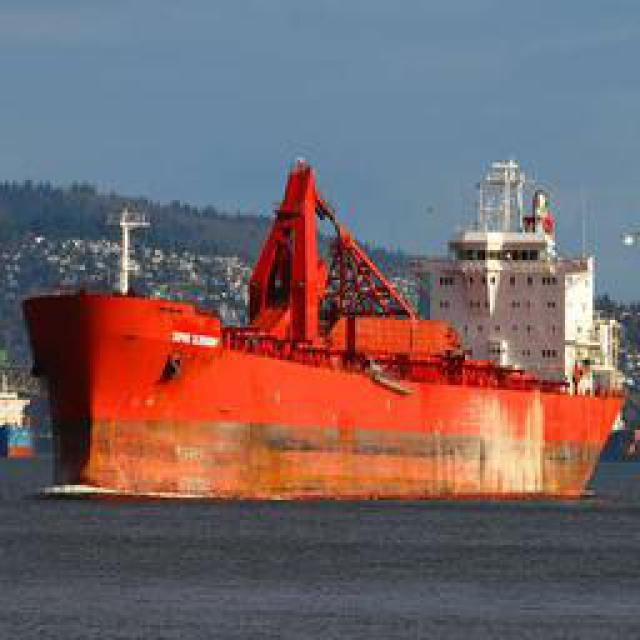Ship: (1, 144, 640, 510)
